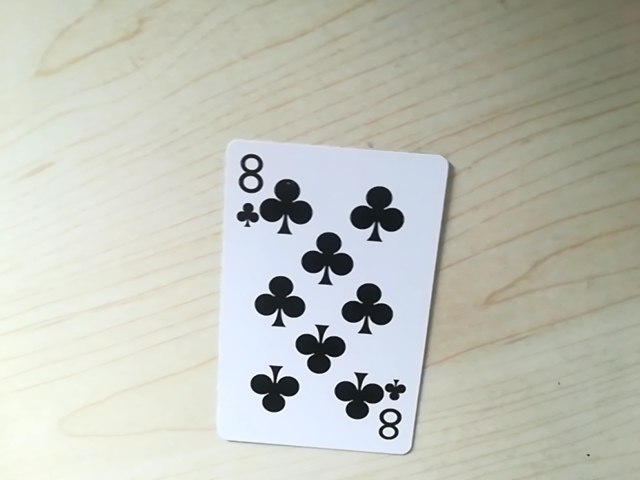mh 8: (229, 146, 272, 217), (370, 386, 410, 448)
